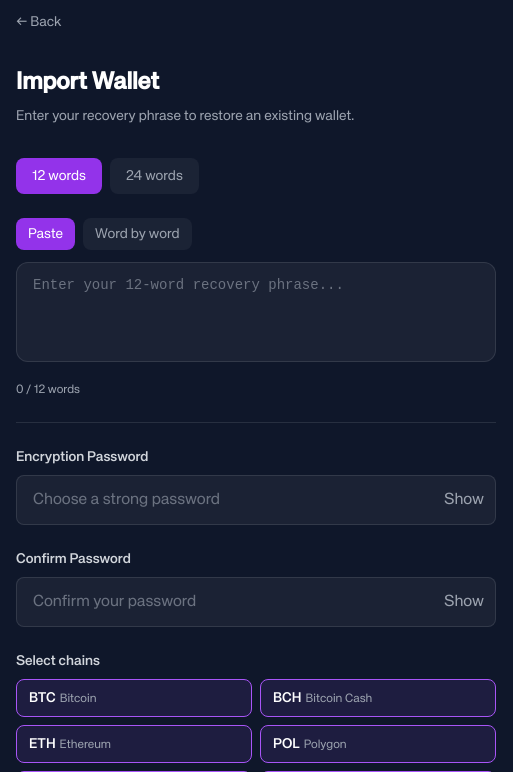
Test: E2E: Wallet Import Flow › should accept a 12-word seed phrase and proceed
Type "abandon abandon abandon abandon abandon abandon abandon abandon abandon abandon abandon about" into the text box with placeholder "Enter your 12-word recovery phrase..." at (256,312), box [16,262,496,362]
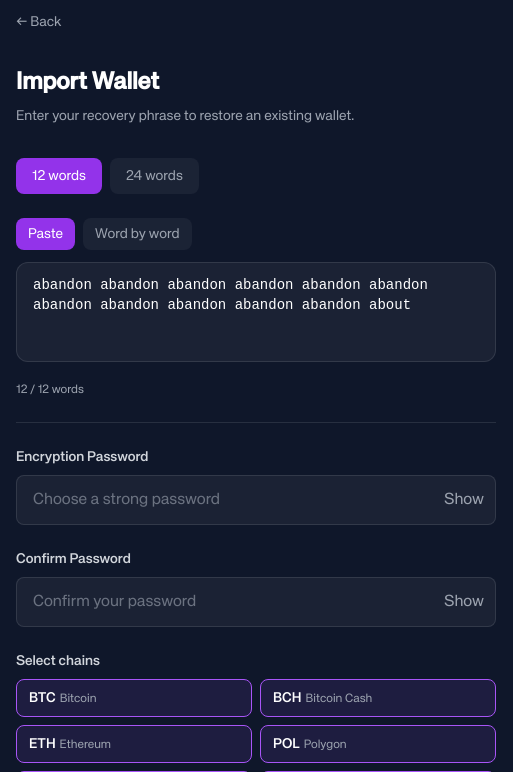
Expected: the button "12 words" is shown, [16,158,102,194]
Expected: the text "12 / 12 words" is shown, [16,382,84,398]
